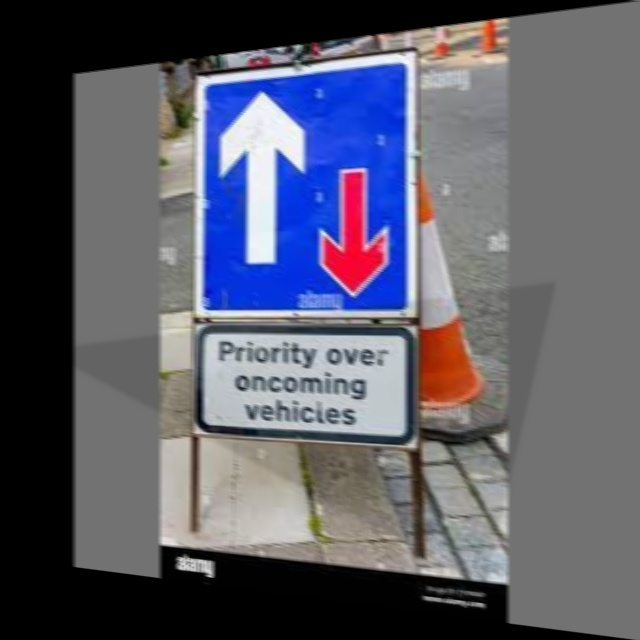Priority_for_Oncoming_Traffic: (204, 59, 408, 312)
